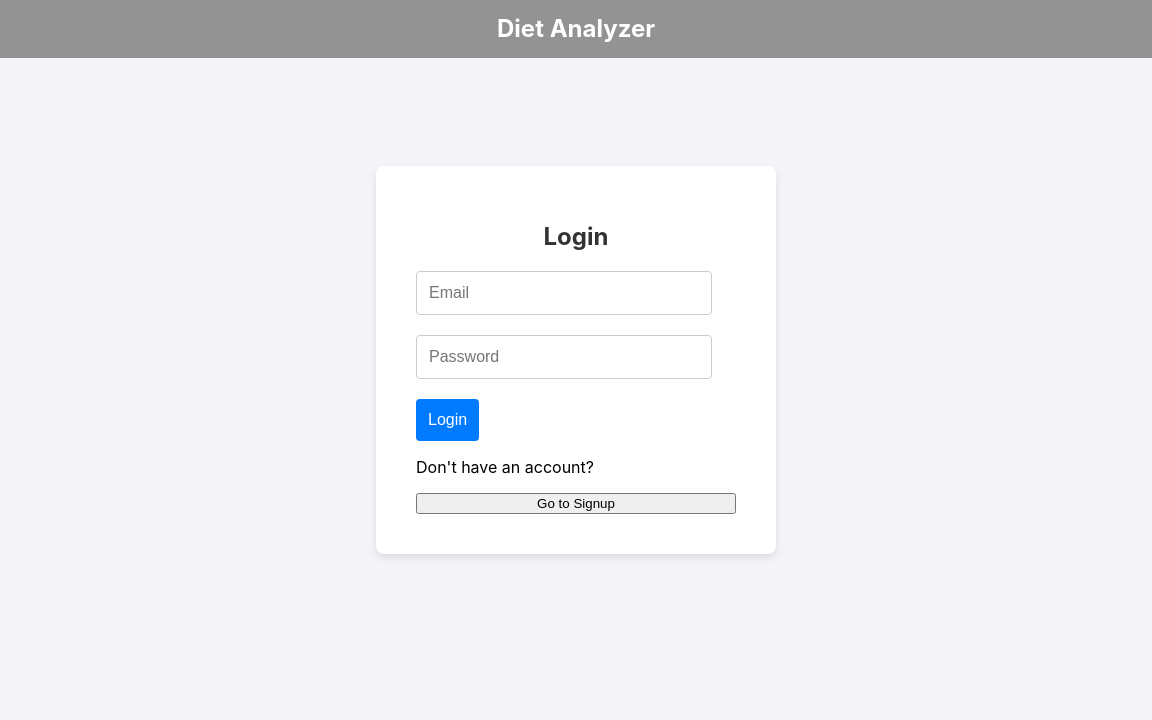
shows error message when login fails
// Fill in email and password
In the field with placeholder "Email": (564, 293) 416,271 -> 712,315, type "user@example.com"
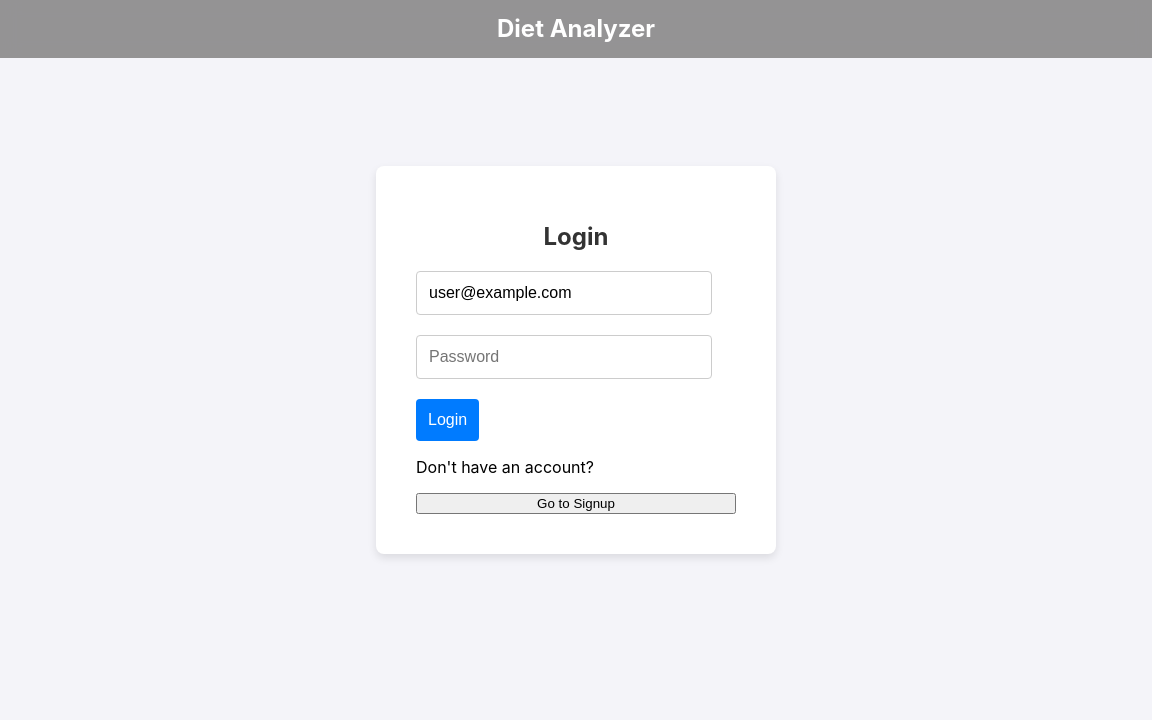
In the password field with placeholder "Password": (564, 357) 416,335 -> 712,379, type "incorrectpassword"
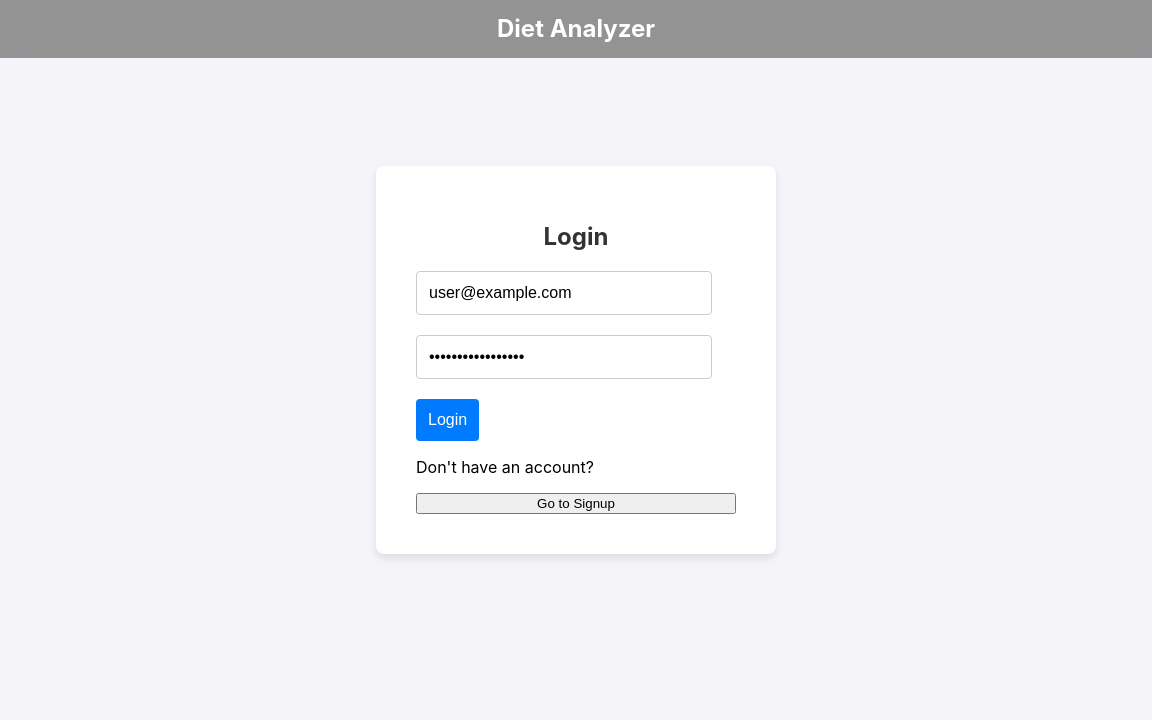
// Simulate the login button click
Click the button "Login": (448, 420) 416,399 -> 479,441
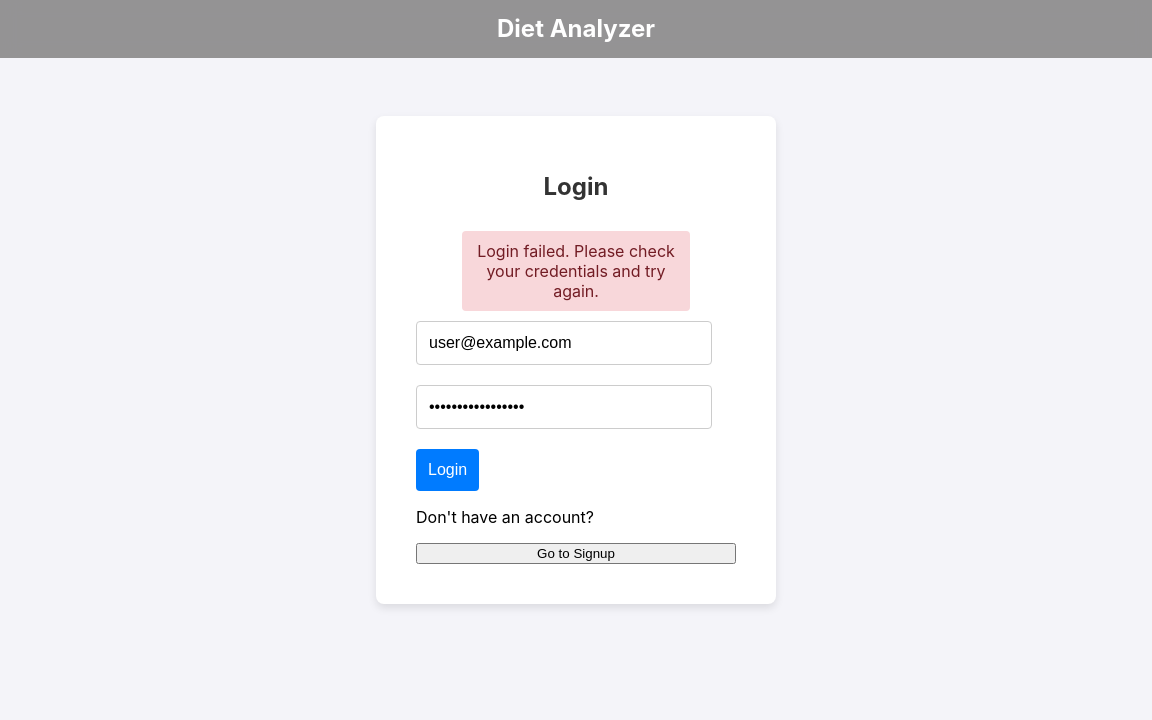
Result: the text "Login failed. Please check your credentials and try again." is shown at 462,231 -> 690,311
